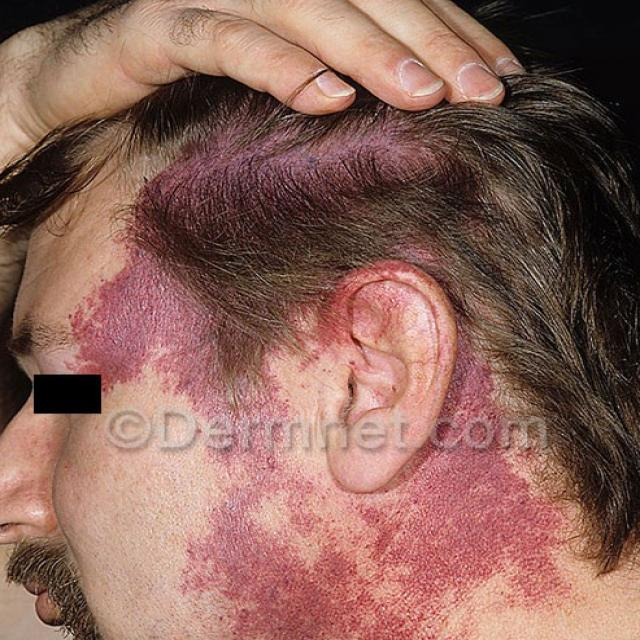Vascular Tumors: (16, 91, 458, 384), (378, 377, 604, 635), (186, 450, 362, 640)
